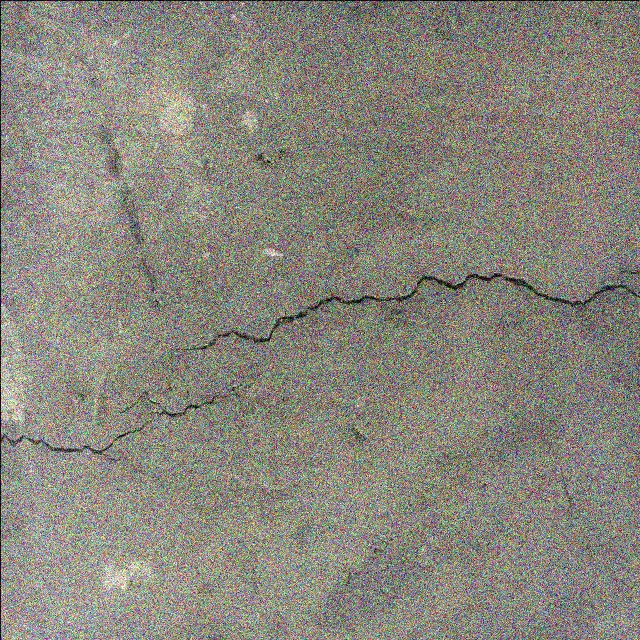SurfaceCrack: (10, 233, 639, 380)
